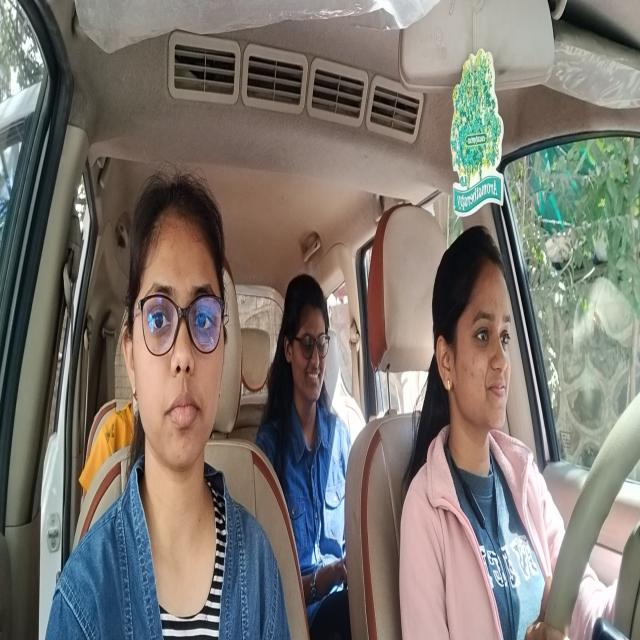person: (132, 191, 223, 464), (439, 244, 516, 436), (287, 276, 330, 403)
